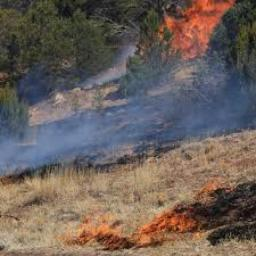Low smoke: (0, 63, 255, 175)
Small fire: (55, 165, 256, 255), (142, 1, 242, 67)
